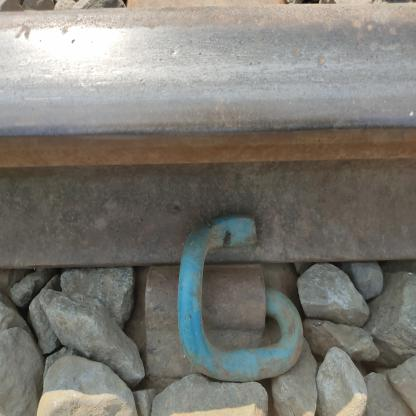Non Defective 1: (114, 151, 332, 415)
